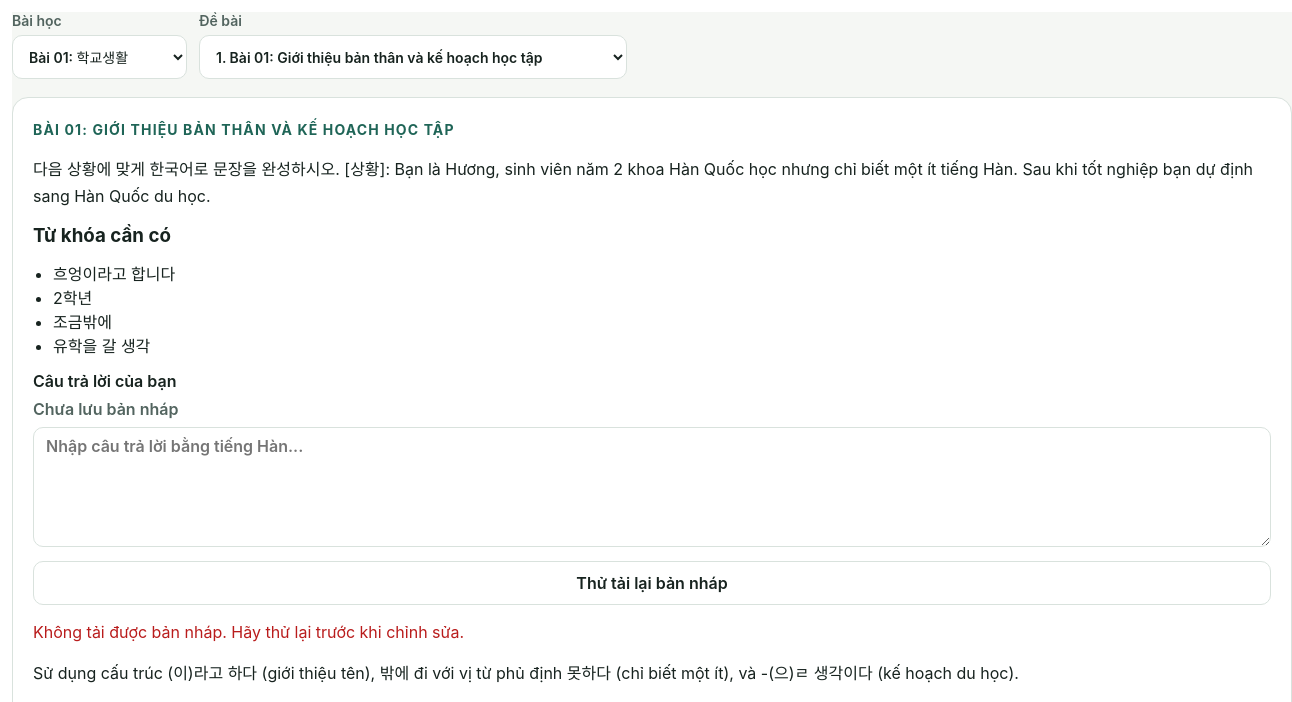
Test: writing draft failure recovery › does not overwrite an unread existing draft when storage fails on load
The width and height of the screenshot is (1292, 702).
Expected: the text box labelled "Câu trả lời của bạn" is disabled, [33,427,1271,547]
Click the button "Thử tải lại bản nháp" at coordinates (652, 583), box [33,561,1271,605]
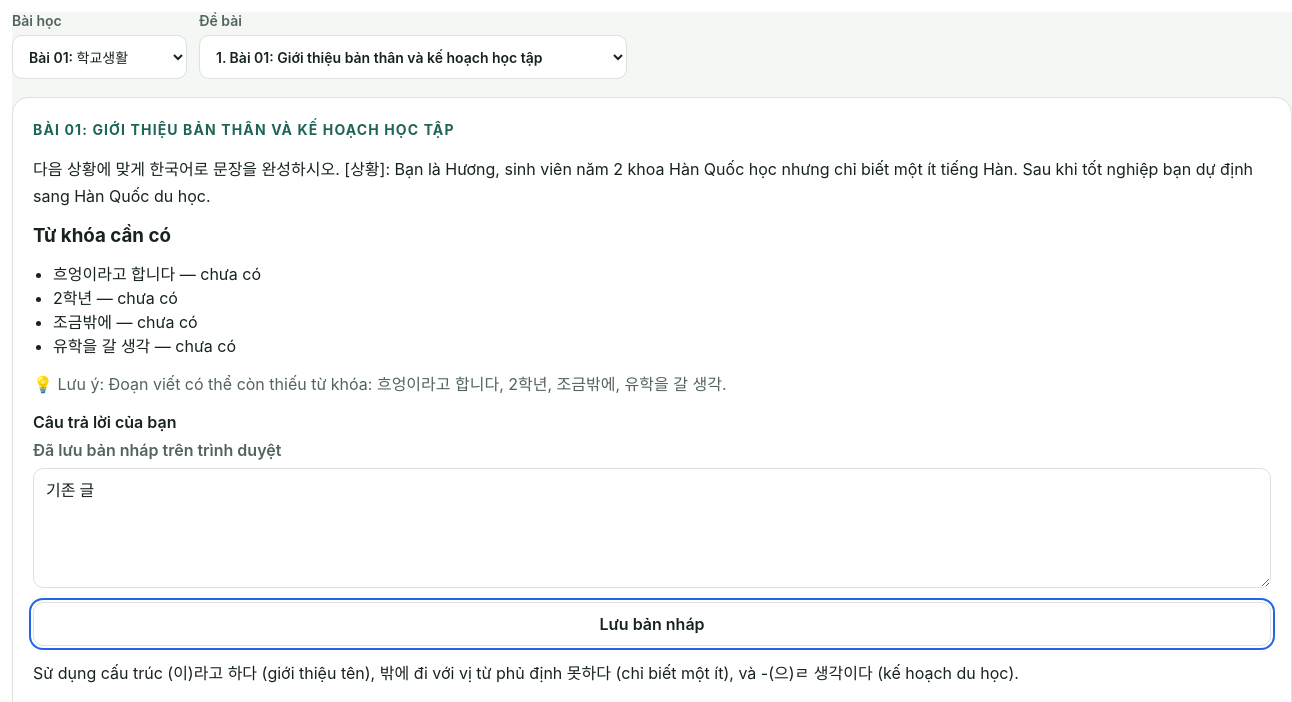
Expected: the text box labelled "Câu trả lời của bạn" holds "기존 글", [33,468,1271,588]
